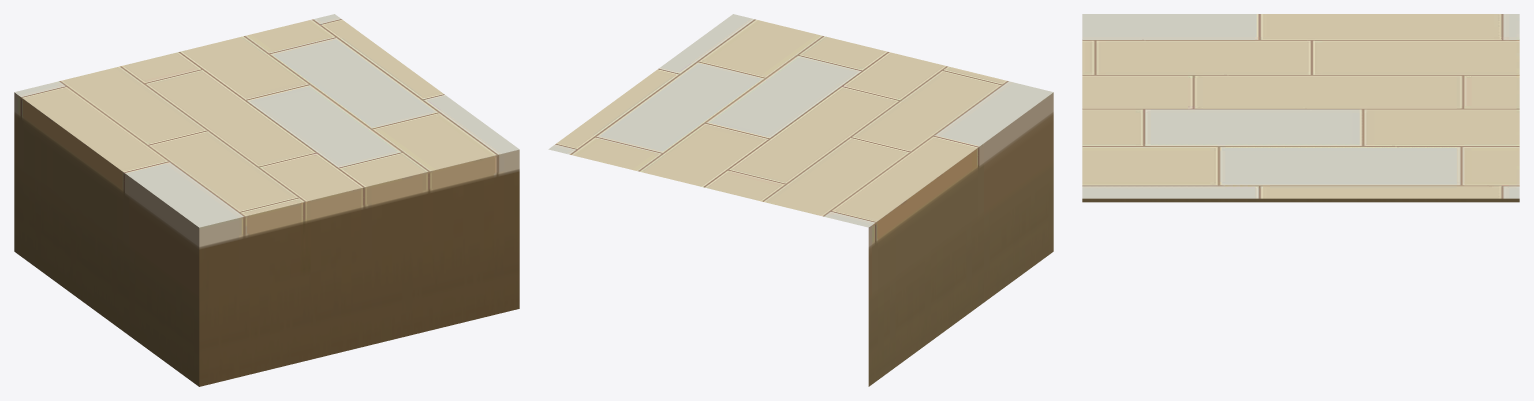
File: my_seahouse_01_tile.glb
3 views of the same model, side by side, from view 1: azimuth 30°, elevation 25°; view 2: azimuth 150°, elevation 25°; view 3: azimuth 270°, elevation 25° (orthographic). The views are drawn at different scales.
Parts seen in each view (by area): view 1: my_seahouse_01_tile; view 2: my_seahouse_01_tile; view 3: my_seahouse_01_tile.
Boxes of the visible parts, box(x1,y1,x2,y2) form: my_seahouse_01_tile: box(14, 14, 519, 386); my_seahouse_01_tile: box(548, 14, 1053, 386); my_seahouse_01_tile: box(1082, 14, 1519, 202).
Bounding box in the file's own units: 0.006 × 0.00285 × 0.006.
1 material, 1 textured.
